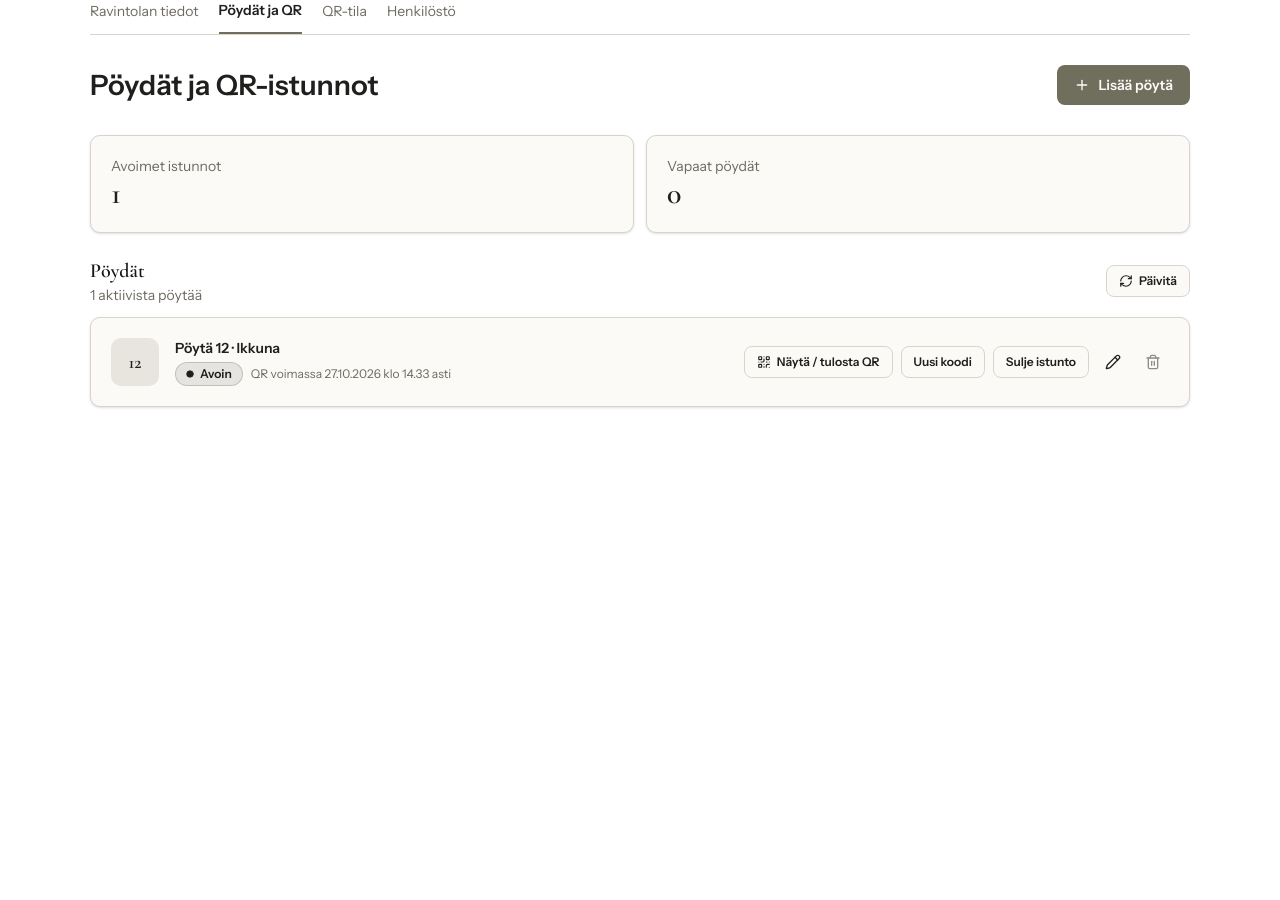
QR-01 tables screen › uses a Finnish fallback for an unknown HTTP error
Click the button "Sulje istunto".
click(1041, 362)  # box [993,346,1089,378]
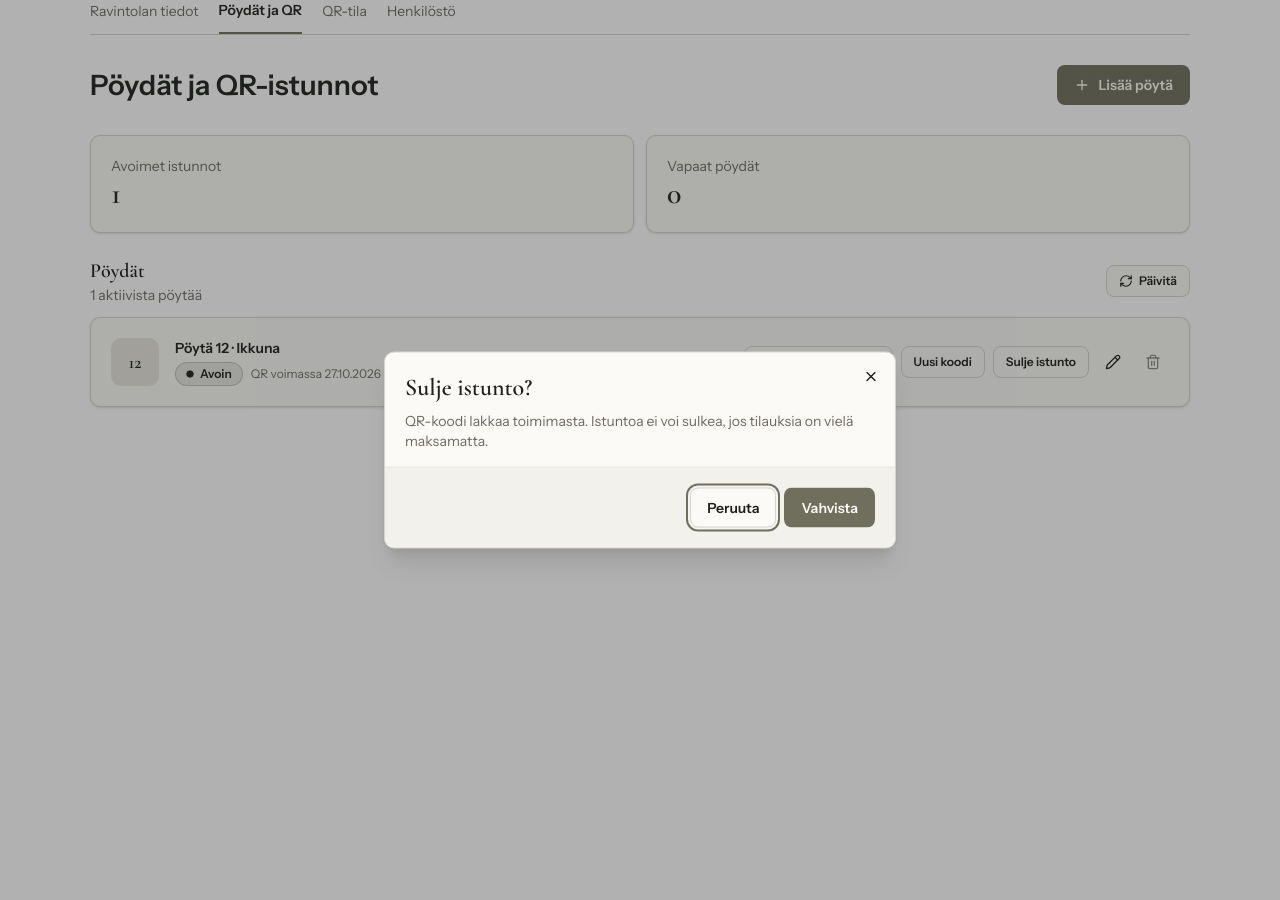
Click the button "Vahvista".
click(830, 508)  # box [784,488,875,528]
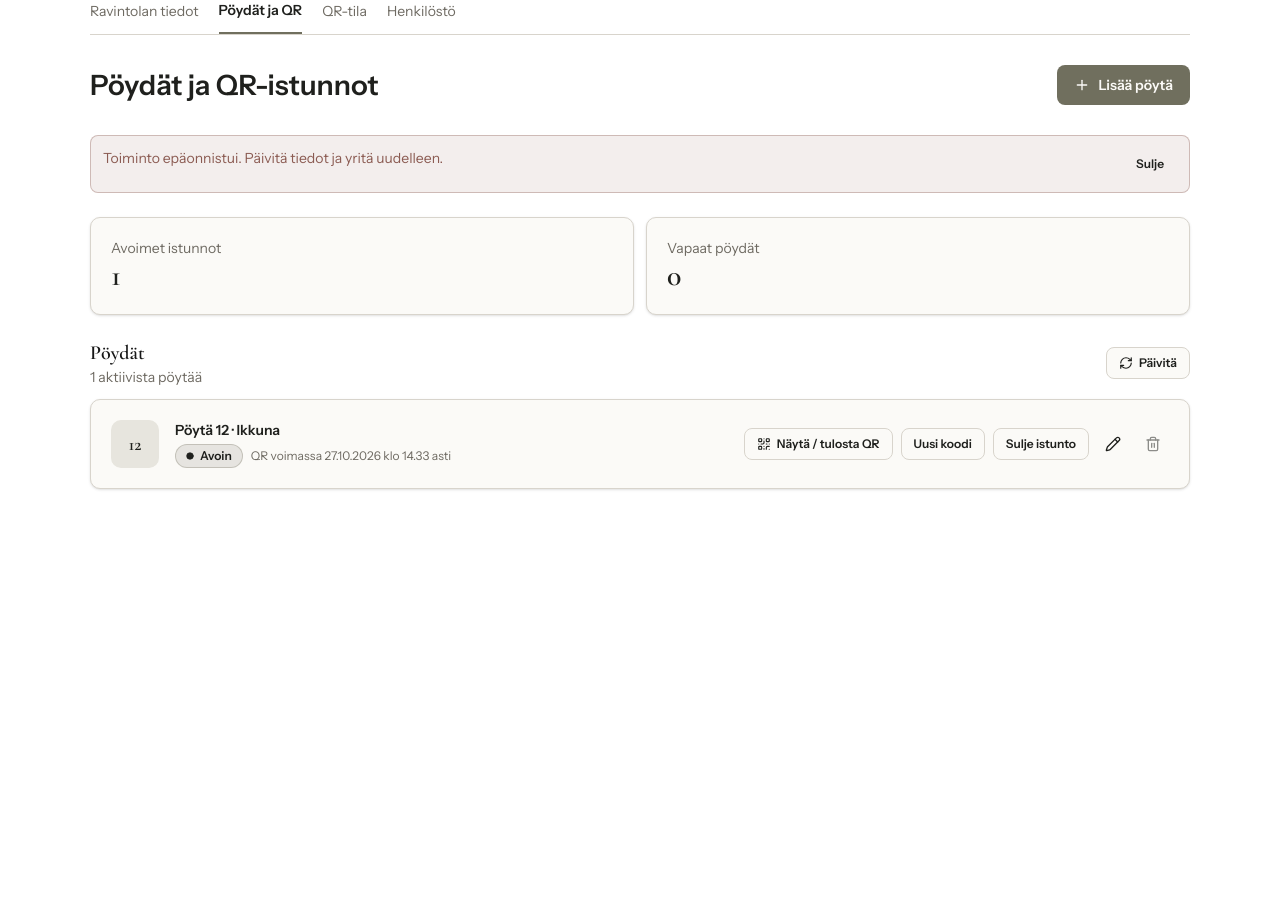
expect the text "Toiminto epäonnistui. Päivitä tiedot ja yritä uudelleen." is shown: met, box [103,148,443,168]
